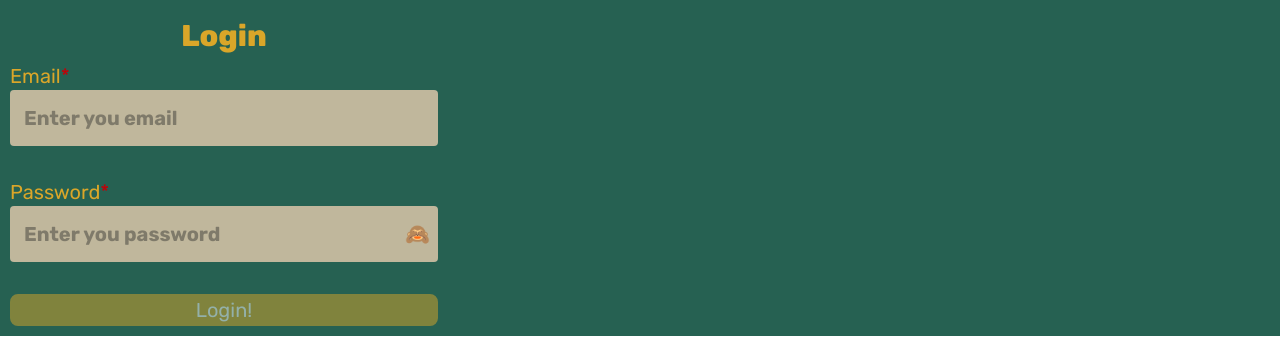
Test case: Login Email input › Error: email not contain "@"
This screenshot has width=1280, height=353.
Type "dfda" into the field with placeholder "Enter you email".
click(224, 118); type("dfda")  # box [10, 90, 438, 146]
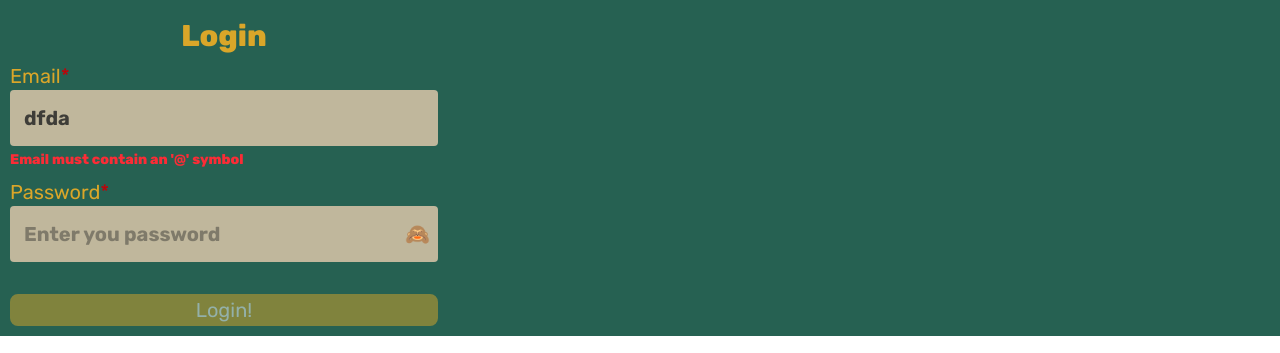
Now the text "Email must contain an '@' symbol" is shown, box [10, 151, 244, 168]
